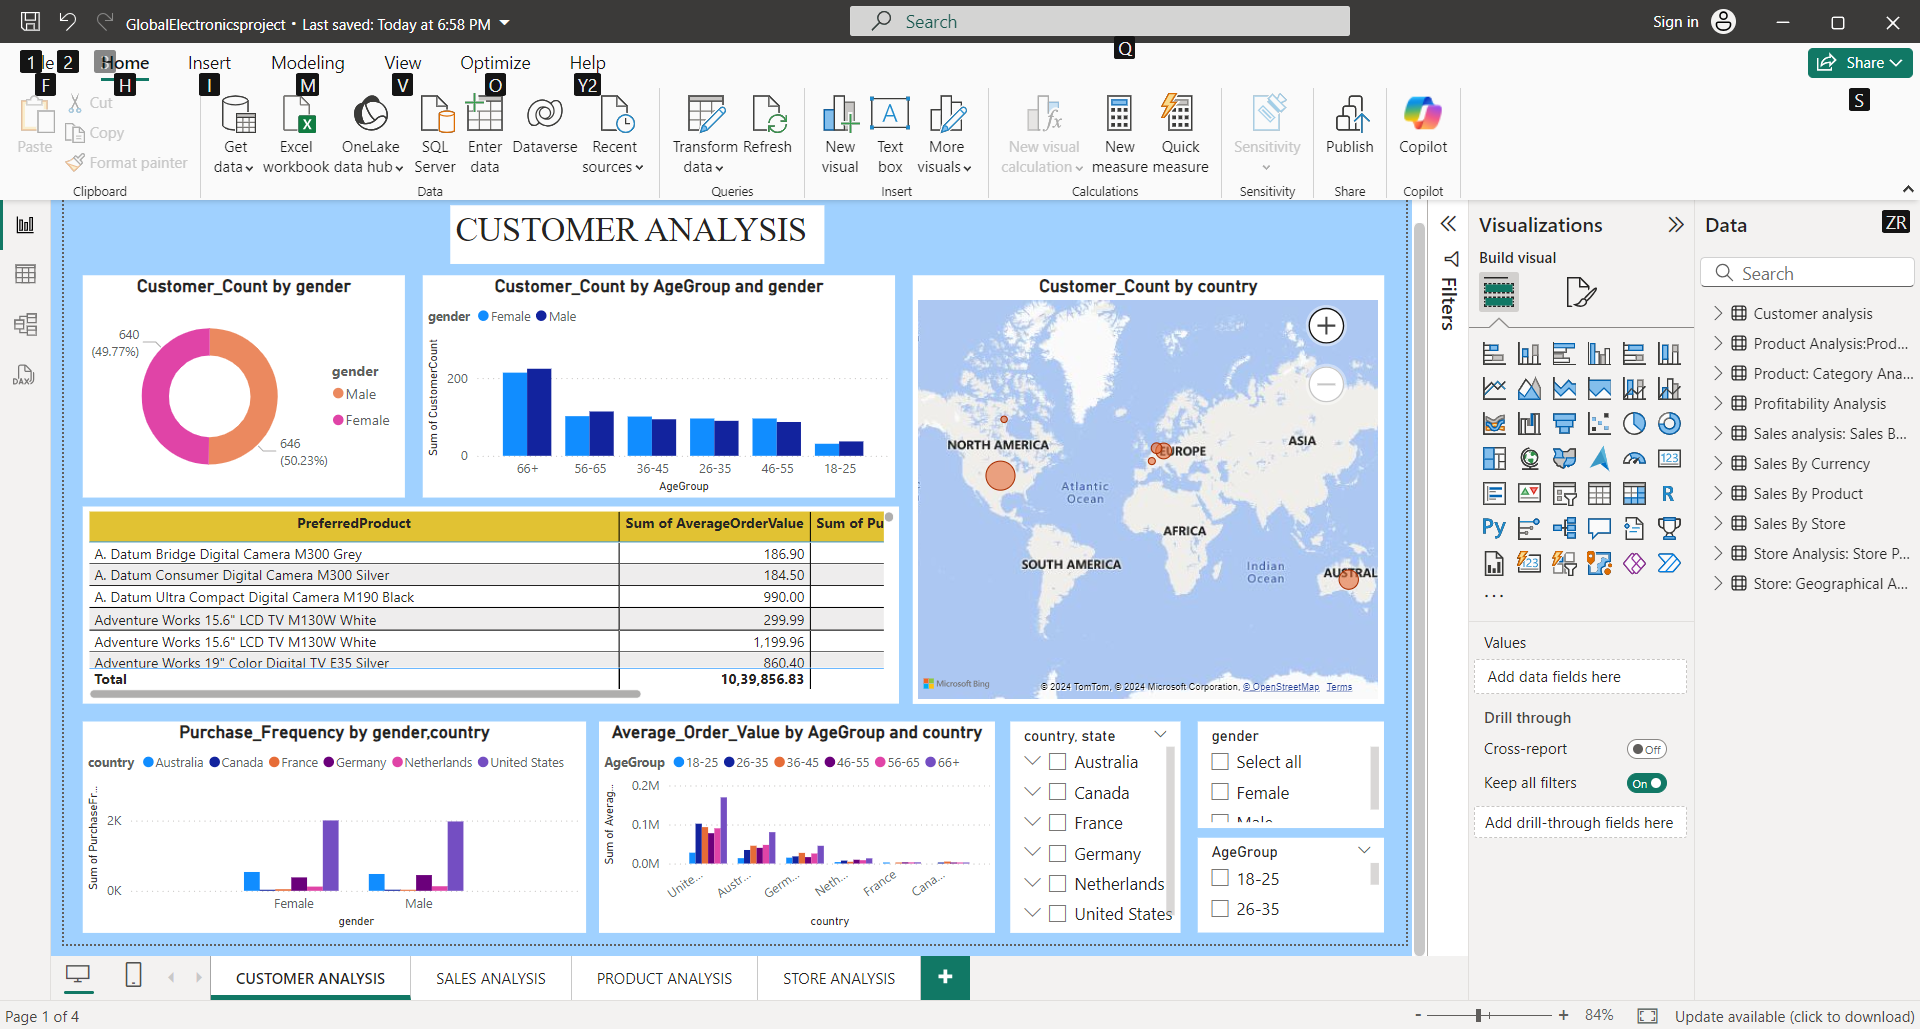

What the dashboard file says about the page in this screenshot:
{"tool":"powerbi","page":{"name":"CUSTOMER ANALYSIS","canvas":[1280,720],"ordinal":0},"visuals":[{"type":"donutChart","title":" Customer_Count by gender","fields":{"Category":["Customer analysis.gender"],"Y":["Customer analysis.CustomerCount"]},"box":[17.9,82.2,307.5,212.2],"z":0},{"type":"clusteredColumnChart","title":"Customer_Count by AgeGroup and gender","fields":{"Y":["Customer analysis.CustomerCount"],"Category":["Customer analysis.AgeGroup"],"Series":["Customer analysis.gender"]},"box":[342.1,82.2,450.6,212.2],"z":1000},{"type":"map","title":" Customer_Count by country","fields":{"Size":["Customer analysis.CustomerCount"],"Category":["Customer analysis.country"]},"box":[809.4,82.2,449.4,408.9],"z":2000},{"type":"tableEx","fields":{"Values":["Customer analysis.PreferredProduct","Customer analysis.AverageOrderValue","Customer analysis.PurchaseFrequency","Customer analysis.country","Customer analysis.AgeGroup","Customer analysis.gender"]},"box":[17.9,309.9,778.4,188.3],"z":3000},{"type":"clusteredColumnChart","title":"Purchase_Frequency by gender,country","fields":{"Y":["Customer analysis.PurchaseFrequency"],"Category":["Customer analysis.gender"],"Series":["Customer analysis.country"]},"box":[17.9,507.8,480.4,201.5],"z":4000},{"type":"clusteredColumnChart","title":"Average_Order_Value by AgeGroup and country","fields":{"Y":["Customer analysis.AverageOrderValue"],"Category":["Customer analysis.country"],"Series":["Customer analysis.AgeGroup"]},"box":[510.2,507.8,377.9,201.5],"z":5000},{"type":"slicer","fields":{"Values":["Customer analysis.country","Customer analysis.state"]},"box":[902.4,507.8,162.1,201.5],"z":6000},{"type":"slicer","fields":{"Values":["Customer analysis.gender"]},"box":[1081.2,507.8,177.6,101.3],"z":7000},{"type":"slicer","fields":{"Values":["Customer analysis.AgeGroup"]},"box":[1081.2,618.7,177.6,90.6],"z":8000},{"type":"textbox","box":[368.3,15.5,356.4,56],"z":9000}]}

Visuals, with their boxes on the page's 1280x720 design canvas (x1, y1, x2, y2). These are canvas units, not pixel positions in the 1920x1029 screenshot, which may show the page scaled, cropped or inside an application window:
" Customer_Count by gender" donutChart: crop(18, 82, 325, 294)
"Customer_Count by AgeGroup and gender" clusteredColumnChart: crop(342, 82, 793, 294)
" Customer_Count by country" map: crop(809, 82, 1259, 491)
tableEx - Customer analysis.PreferredProduct x Customer analysis.AverageOrderValue: crop(18, 310, 796, 498)
"Purchase_Frequency by gender,country" clusteredColumnChart: crop(18, 508, 498, 709)
"Average_Order_Value by AgeGroup and country" clusteredColumnChart: crop(510, 508, 888, 709)
slicer - Customer analysis.country x Customer analysis.state: crop(902, 508, 1064, 709)
slicer - Customer analysis.gender: crop(1081, 508, 1259, 609)
slicer - Customer analysis.AgeGroup: crop(1081, 619, 1259, 709)
textbox: crop(368, 16, 725, 72)
